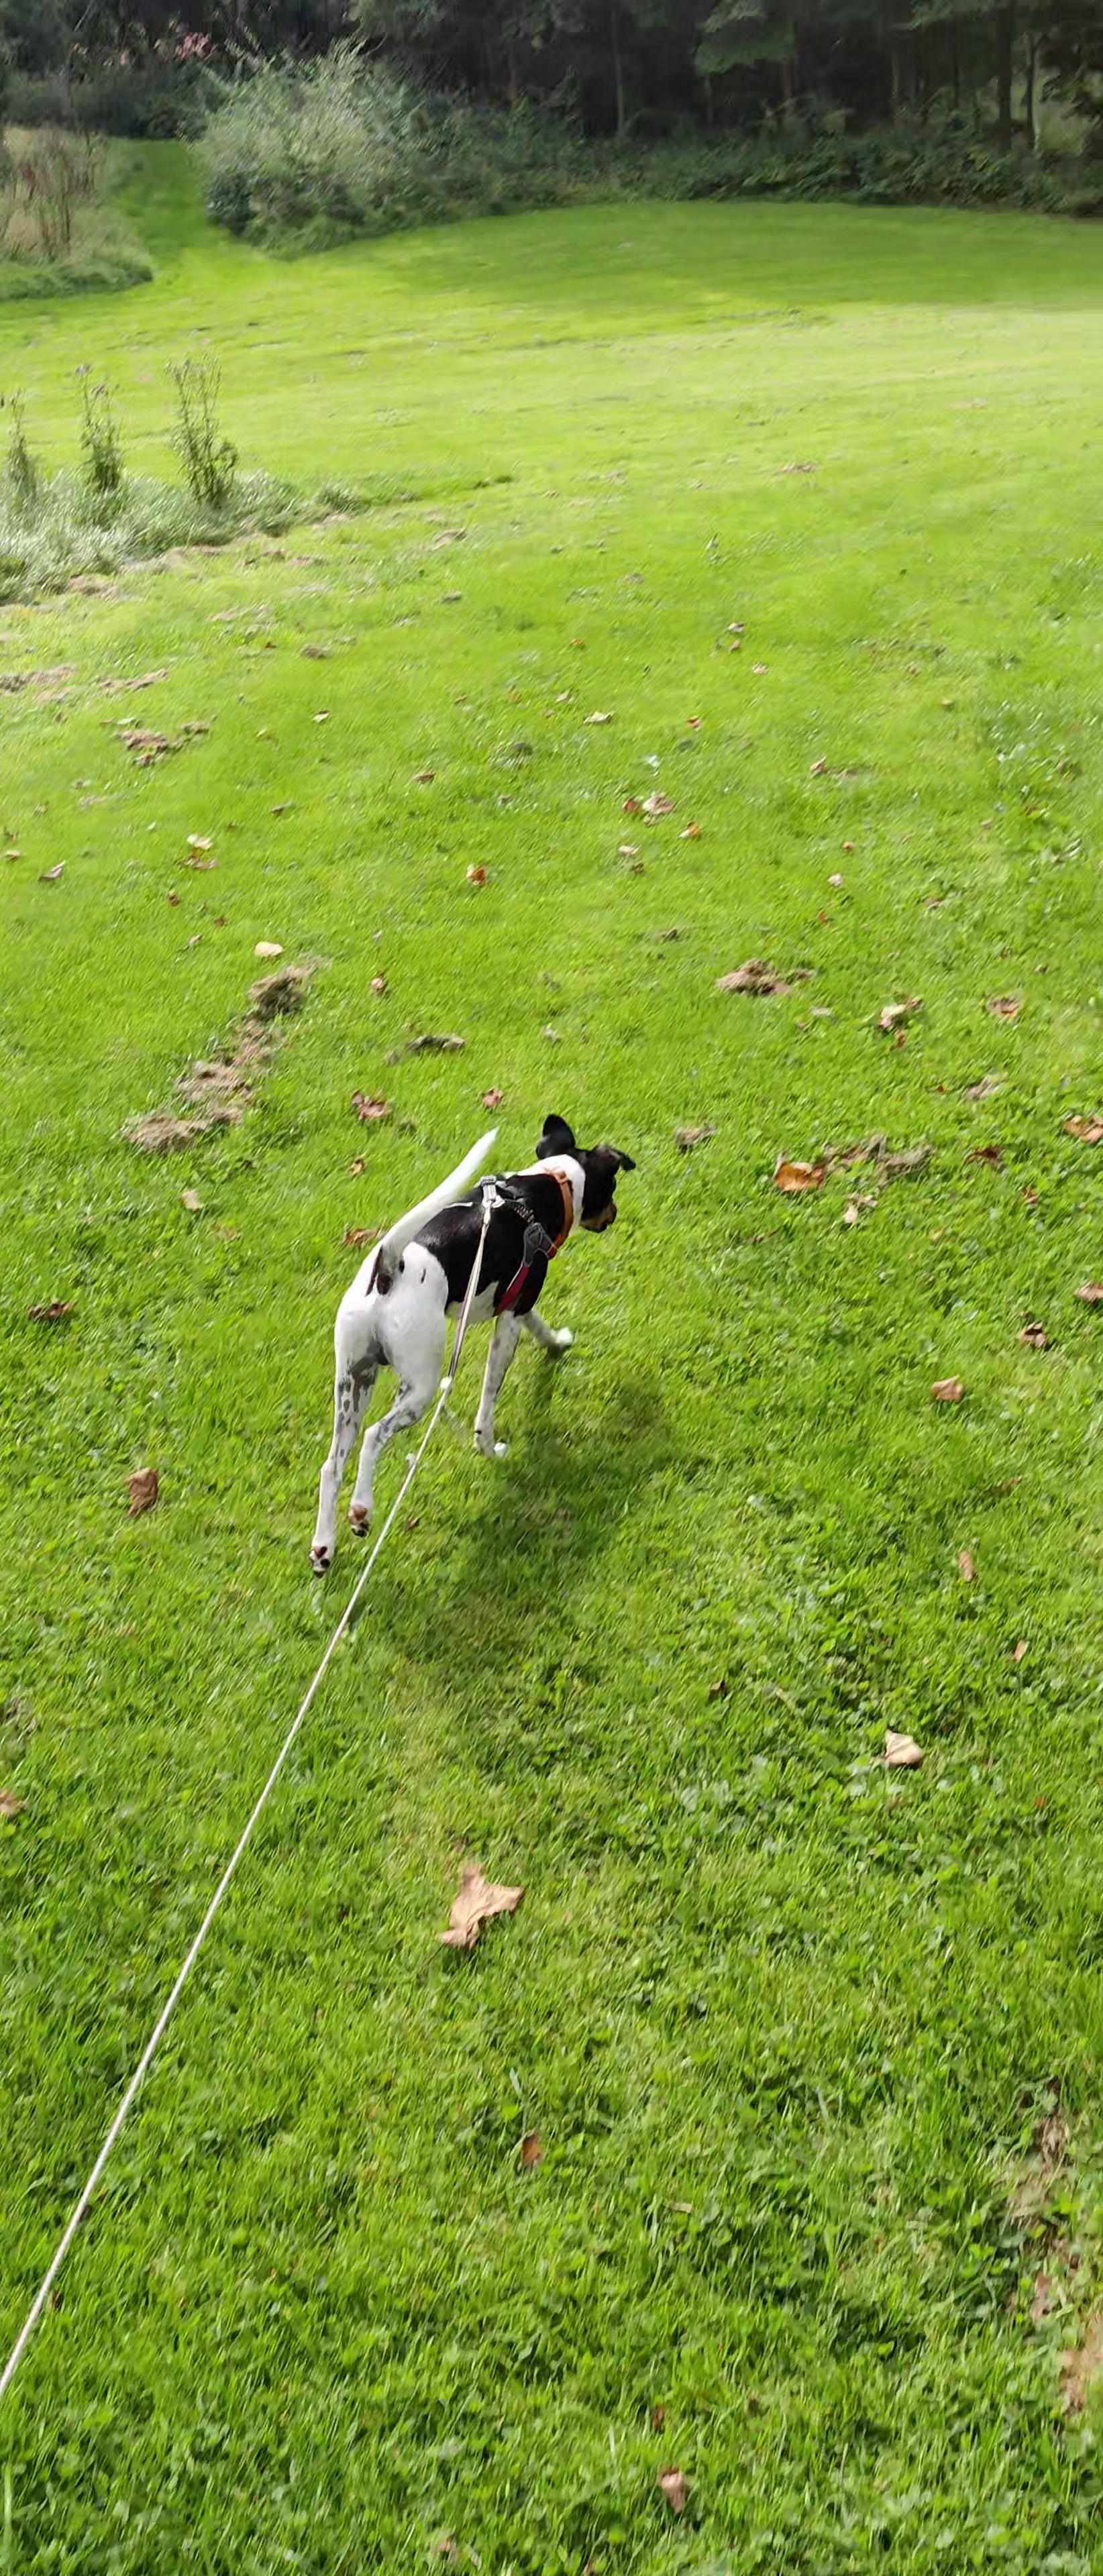Dog: (294, 1097, 646, 1592)
